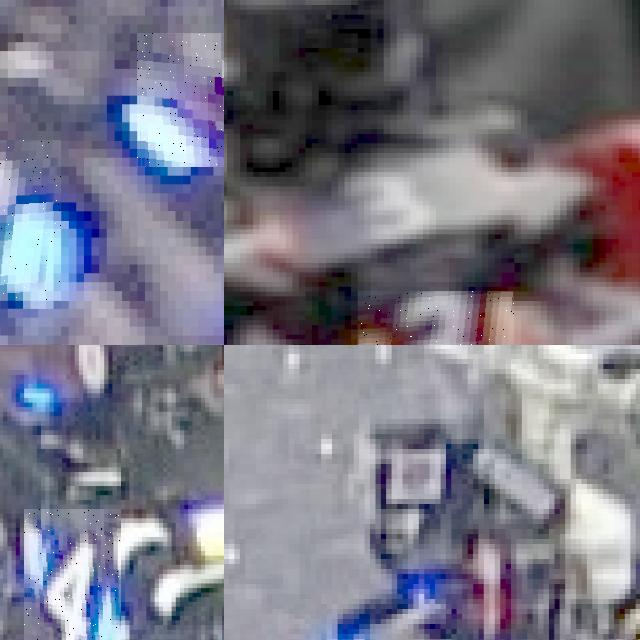B3: (137, 33, 224, 166), (0, 140, 61, 300)
B4: (24, 509, 121, 640)
R3: (357, 291, 514, 345)
